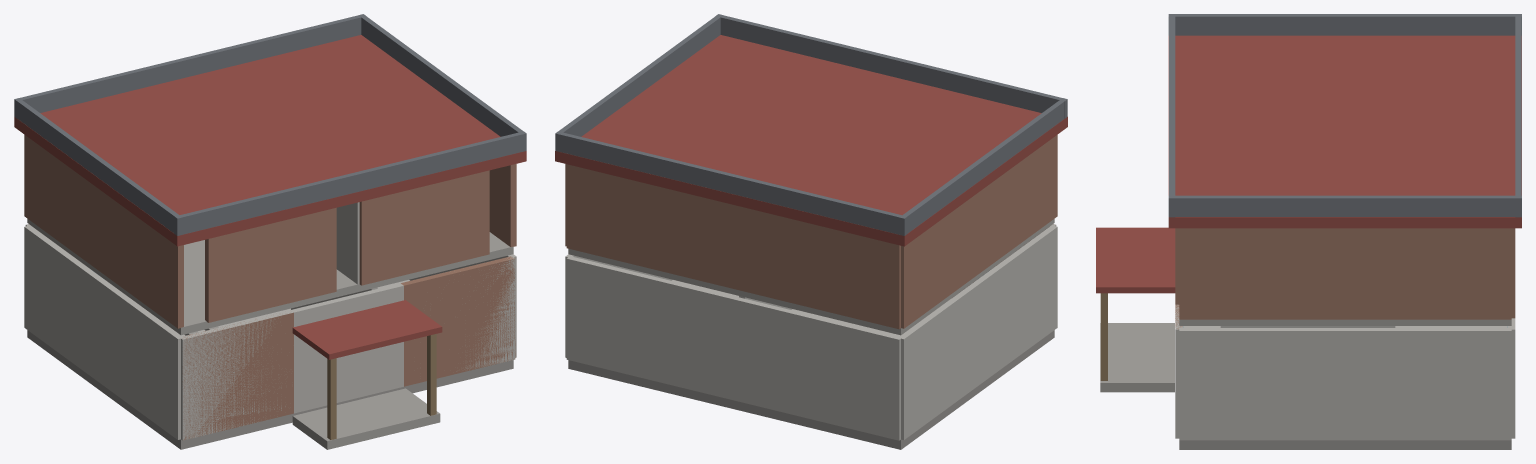
Rendered from house_small.glb.
3 renders of one model, left to right at view 1: azimuth 30°, elevation 25°; view 2: azimuth 150°, elevation 25°; view 3: azimuth 270°, elevation 25°, orthographic. The views are drawn at different scales.
Parts seen in each view (by area): view 1: House_small_roof, House_small_GF_wallW, House_small_GF_wallS, House_small_UF_wallW, House_small_UF_wallSa, House_small_UF_wallSb, House_small_wallSa, House_small_wallSb, House_small_parapetS, House_small_parapetN, House_small_slab, House_small_porchroof (+8 smaller); view 2: House_small_roof, House_small_GF_wallN, House_small_UF_wallN, House_small_GF_wallW, House_small_UF_wallW, House_small_parapetN, House_small_parapetS, House_small_base, House_small_parapetW, House_small_parapetE, House_small_slab; view 3: House_small_roof, House_small_GF_wallE, House_small_UF_wallE, House_small_parapetW, House_small_parapetE, House_small_porchroof, House_small_porch, House_small_base, House_small_slab, House_small_parapetN, House_small_parapetS, House_small_pillarR (+3 smaller).
Part boxes in pixels (bbox=[...]): House_small_roof: bbox=[14, 35, 526, 246]; House_small_GF_wallW: bbox=[24, 226, 183, 439]; House_small_GF_wallS: bbox=[181, 256, 515, 440]; House_small_UF_wallW: bbox=[24, 134, 183, 328]; House_small_UF_wallSa: bbox=[205, 207, 336, 322]; House_small_UF_wallSb: bbox=[359, 170, 489, 285]; House_small_wallSa: bbox=[182, 312, 293, 440]; House_small_wallSb: bbox=[401, 256, 515, 386]; House_small_parapetS: bbox=[174, 132, 526, 235]; House_small_parapetN: bbox=[14, 14, 366, 118]; House_small_slab: bbox=[27, 219, 513, 335]; House_small_porchroof: bbox=[292, 300, 442, 359]; House_small_roof: bbox=[555, 35, 1067, 246]; House_small_GF_wallN: bbox=[566, 257, 902, 440]; House_small_UF_wallN: bbox=[566, 164, 900, 329]; House_small_GF_wallW: bbox=[900, 225, 1057, 439]; House_small_UF_wallW: bbox=[901, 135, 1057, 328]; House_small_parapetN: bbox=[560, 132, 907, 235]; House_small_parapetS: bbox=[715, 14, 1067, 118]; House_small_base: bbox=[568, 330, 1054, 449]; House_small_parapetW: bbox=[899, 98, 1067, 235]; House_small_parapetE: bbox=[555, 16, 720, 151]; House_small_slab: bbox=[568, 219, 1054, 335]; House_small_roof: bbox=[1168, 35, 1521, 228]; House_small_GF_wallE: bbox=[1179, 328, 1511, 440]; House_small_UF_wallE: bbox=[1179, 228, 1511, 319]; House_small_parapetW: bbox=[1168, 14, 1521, 35]; House_small_parapetE: bbox=[1168, 195, 1521, 216]; House_small_porchroof: bbox=[1096, 227, 1175, 293]; House_small_porch: bbox=[1100, 323, 1174, 392]; House_small_base: bbox=[1179, 440, 1511, 449]; House_small_slab: bbox=[1179, 319, 1511, 325]; House_small_parapetN: bbox=[1515, 14, 1521, 217]; House_small_parapetS: bbox=[1169, 14, 1175, 217]; House_small_pillarR: bbox=[1100, 293, 1107, 380].
Size of the model in its own units: 10.5 by 6.81 by 10.25.
